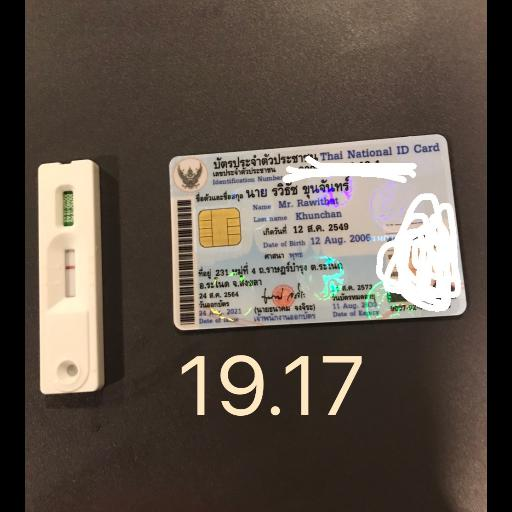Neg: (38, 160, 99, 394)
